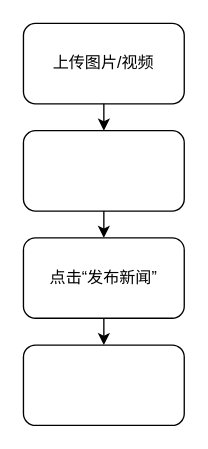
This 208x449 diagram has some shape labels left out. The shapes that lost their labels are listed below. From the top down, each one's centre as x and y in pixels, then its label:
At [103,170]: "引入/更改图片/视频".
At [103,384]: "更新新闻内容".
